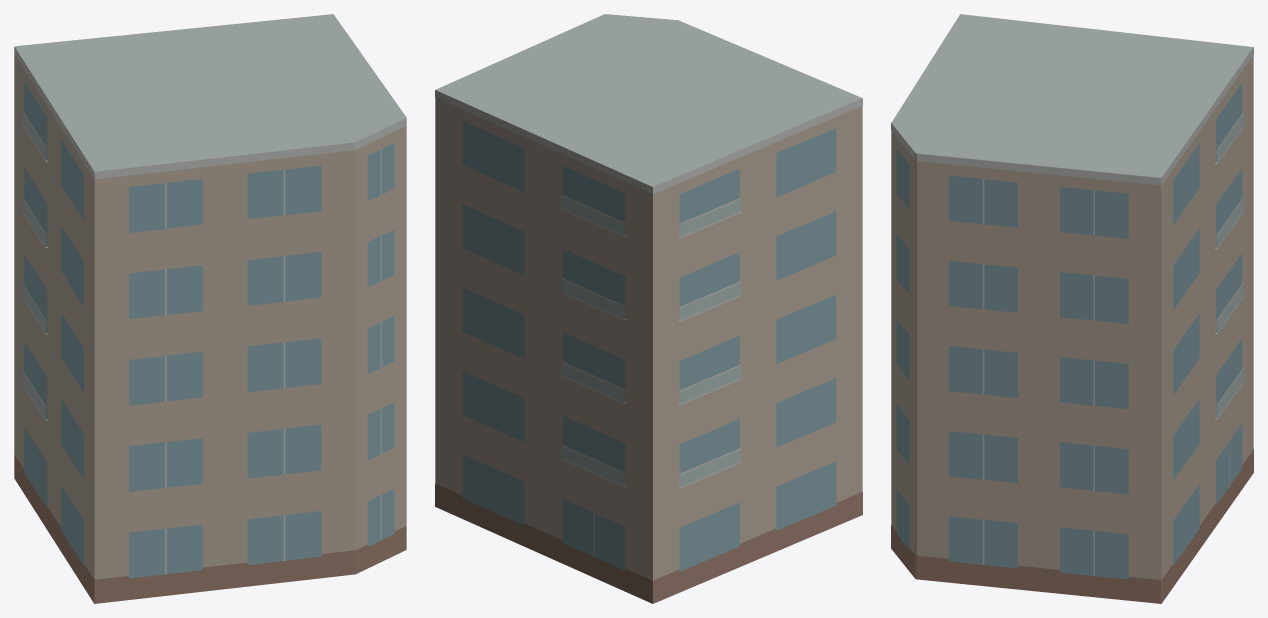
Rendered from survey-upis-32880786.glb.
3 renders of one model, left to right at view 1: azimuth 30°, elevation 25°; view 2: azimuth 150°, elevation 25°; view 3: azimuth 270°, elevation 25°, orthographic. The views are drawn at different scales.
Parts seen in each view (by area): view 1: survey-upis-32880786.tmp; view 2: survey-upis-32880786.tmp; view 3: survey-upis-32880786.tmp.
Part boxes in pixels (<box>): survey-upis-32880786.tmp: <box>14,14,406,603</box>; survey-upis-32880786.tmp: <box>435,14,862,603</box>; survey-upis-32880786.tmp: <box>891,14,1253,603</box>.
Bounding box in the file's own units: 11.41 × 13.8 × 10.65.
